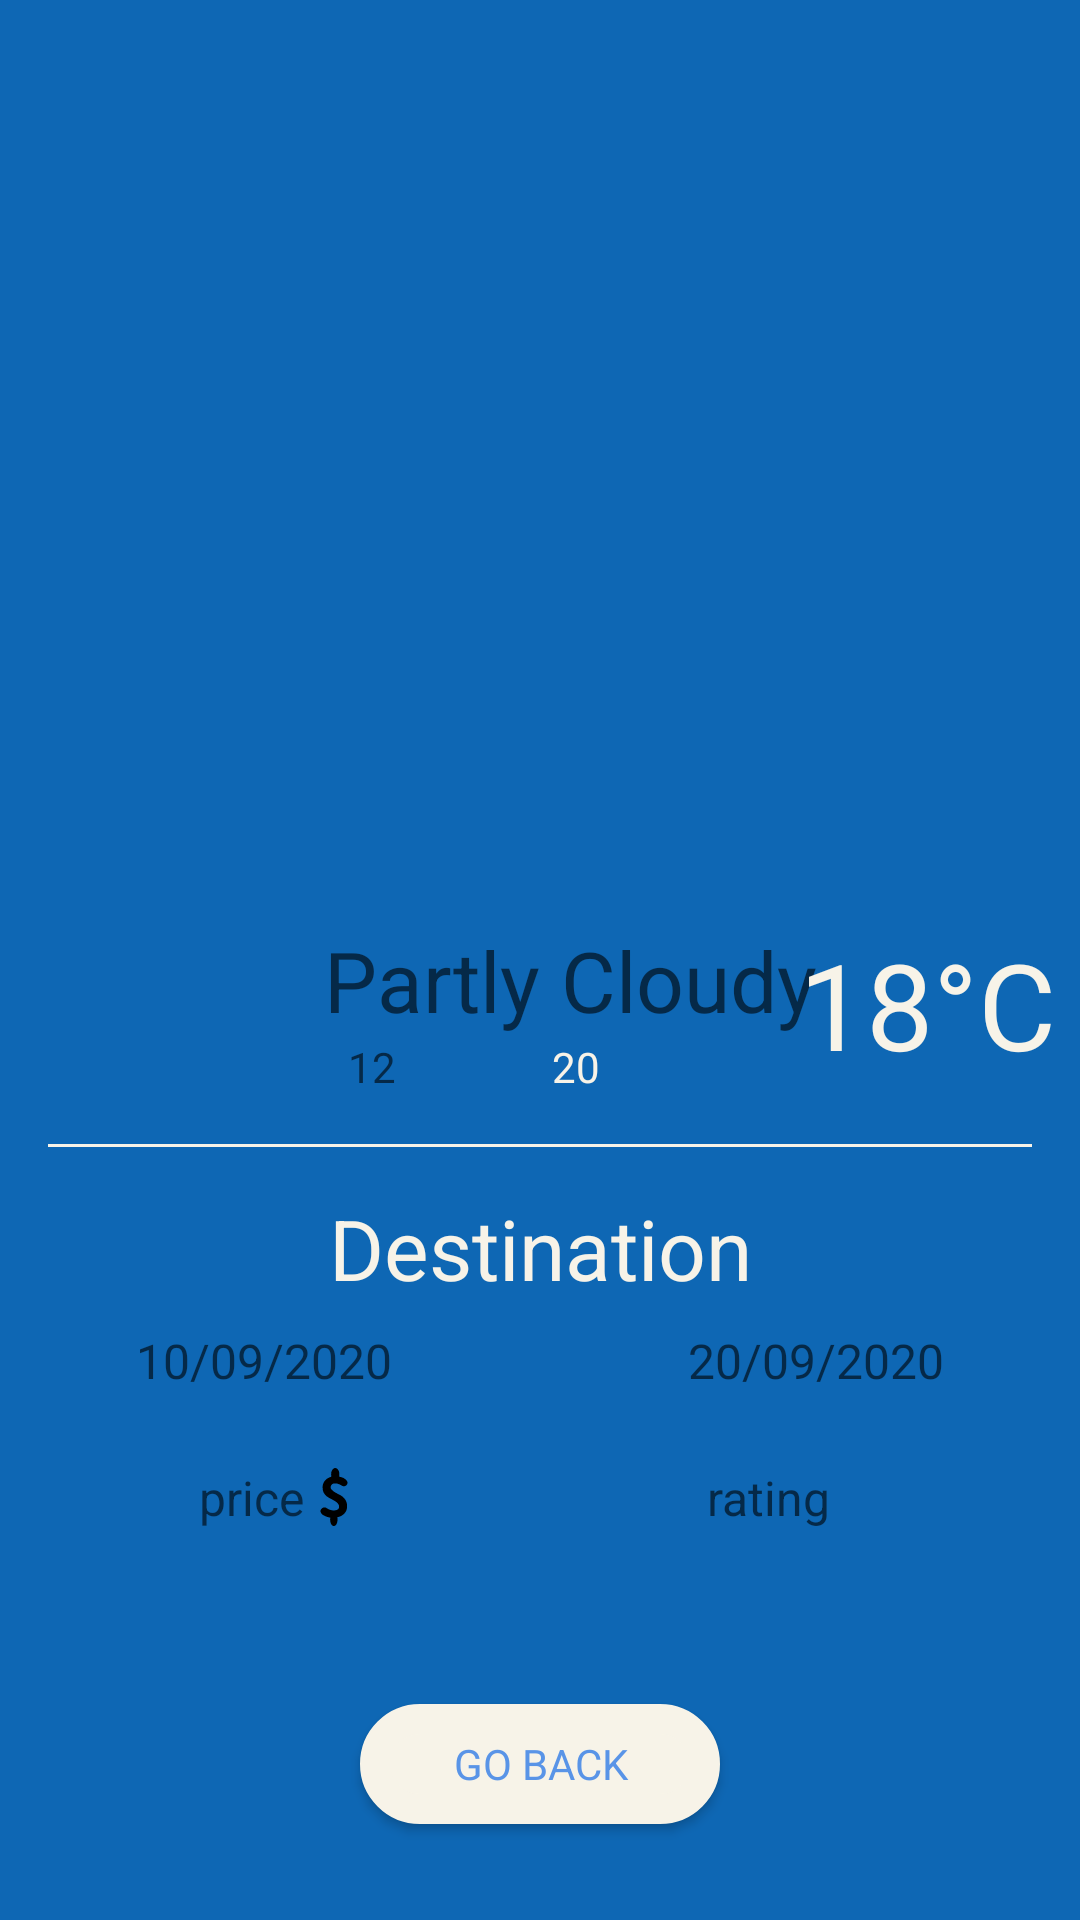

Icons on this 1080w x 1920h Android screen, each with the point to tap as (x,y):
money: (334,1497)
